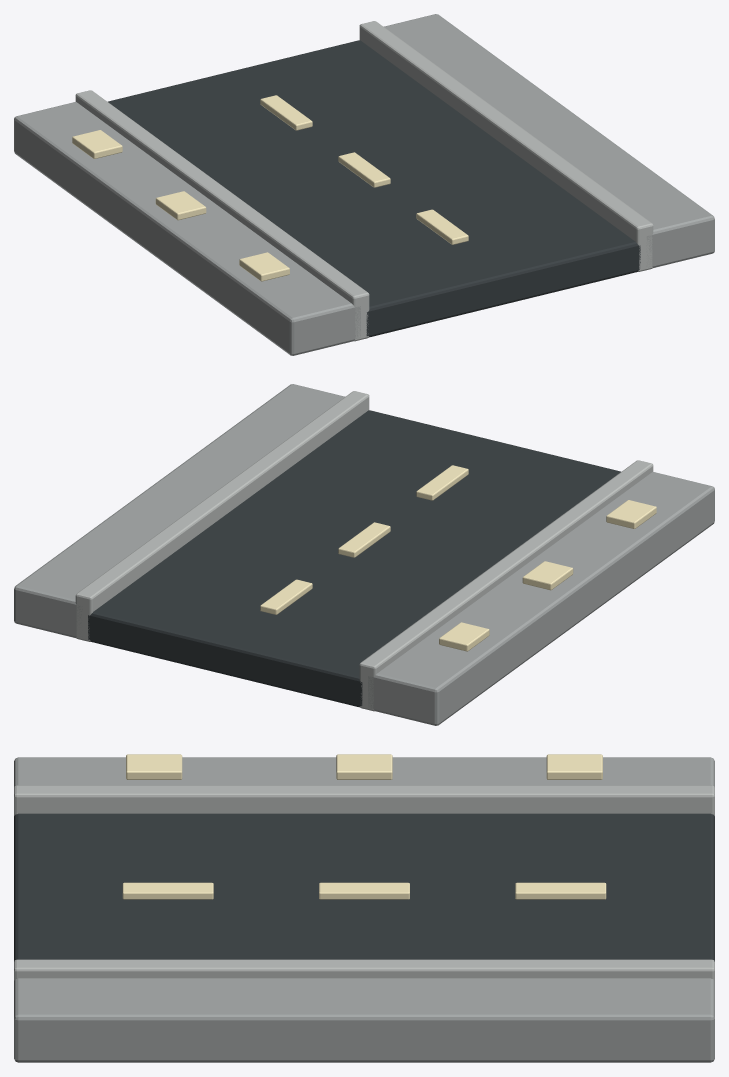
The model's file is road_with_sidewalks.glb.
The picture shows the model from 3 angles, top to bottom: view 1: azimuth 30°, elevation 25°; view 2: azimuth 150°, elevation 25°; view 3: azimuth 270°, elevation 25°; orthographic projection. The views are drawn at different scales.
Parts seen in each view (by area): view 1: asphalt_surface, sidewalk, sidewalk.001, curb.001, curb, tactile_paving.001, tactile_paving.002, tactile_paving, lane_dash.001, lane_dash, lane_dash.002; view 2: asphalt_surface, sidewalk, sidewalk.001, curb.001, curb, tactile_paving.001, tactile_paving, tactile_paving.002, lane_dash.001, lane_dash.002, lane_dash; view 3: asphalt_surface, sidewalk.001, curb, sidewalk, curb.001, lane_dash, lane_dash.002, lane_dash.001, tactile_paving.001, tactile_paving, tactile_paving.002.
Boxes of the visible parts, box(x1,y1,x2,y2) form: asphalt_surface: box(108, 40, 640, 337); sidewalk: box(14, 102, 360, 355); sidewalk.001: box(384, 14, 714, 267); curb.001: box(359, 21, 653, 271); curb: box(75, 90, 369, 341); tactile_paving.001: box(155, 191, 206, 220); tactile_paving.002: box(239, 252, 289, 281); tactile_paving: box(72, 130, 122, 158); lane_dash.001: box(338, 152, 390, 187); lane_dash: box(260, 95, 312, 130); lane_dash.002: box(416, 209, 468, 244); asphalt_surface: box(88, 410, 620, 707); sidewalk: box(368, 472, 714, 725); sidewalk.001: box(14, 384, 344, 637); curb.001: box(75, 391, 369, 641); curb: box(359, 460, 653, 711); tactile_paving.001: box(522, 561, 573, 590); tactile_paving: box(439, 622, 489, 651); tactile_paving.002: box(606, 500, 656, 528); lane_dash.001: box(338, 522, 390, 557); lane_dash.002: box(416, 465, 468, 500); lane_dash: box(260, 579, 312, 614); asphalt_surface: box(14, 813, 714, 961); sidewalk.001: box(14, 978, 714, 1062); curb: box(14, 785, 714, 815); sidewalk: box(14, 757, 714, 787); curb.001: box(14, 959, 714, 980); lane_dash: box(515, 882, 606, 899); lane_dash.002: box(122, 882, 213, 899); lane_dash.001: box(319, 882, 409, 899); tactile_paving.001: box(336, 754, 392, 779); tactile_paving: box(546, 754, 602, 779); tactile_paving.002: box(126, 754, 182, 779).
Size of the model in its own units: 0.88 by 0.092 by 1.
